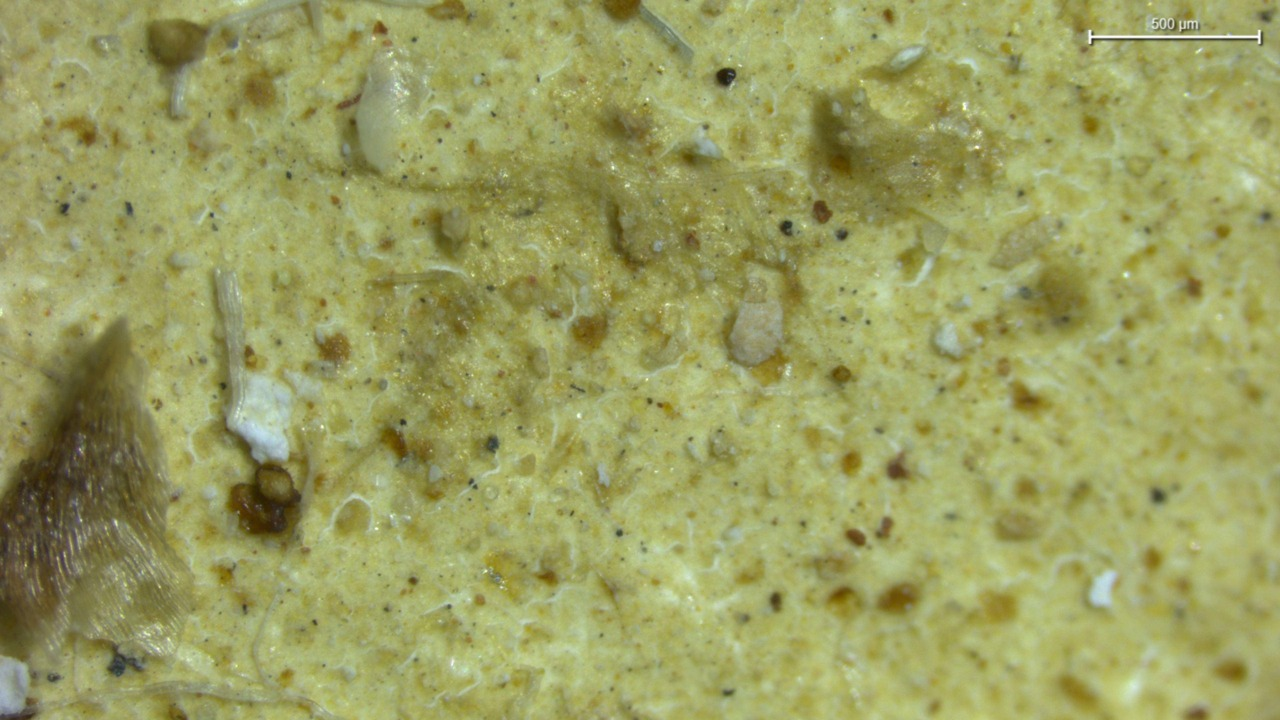microplastic_fragment: (227, 378, 296, 463), (727, 299, 783, 367), (0, 655, 29, 716), (1088, 570, 1118, 608), (934, 322, 963, 358)
